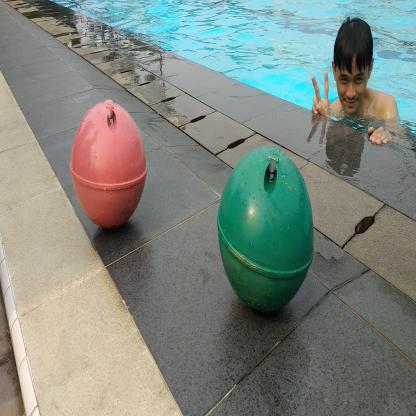green_buoy: (212, 144, 317, 324)
red_buoy: (66, 92, 151, 243)
